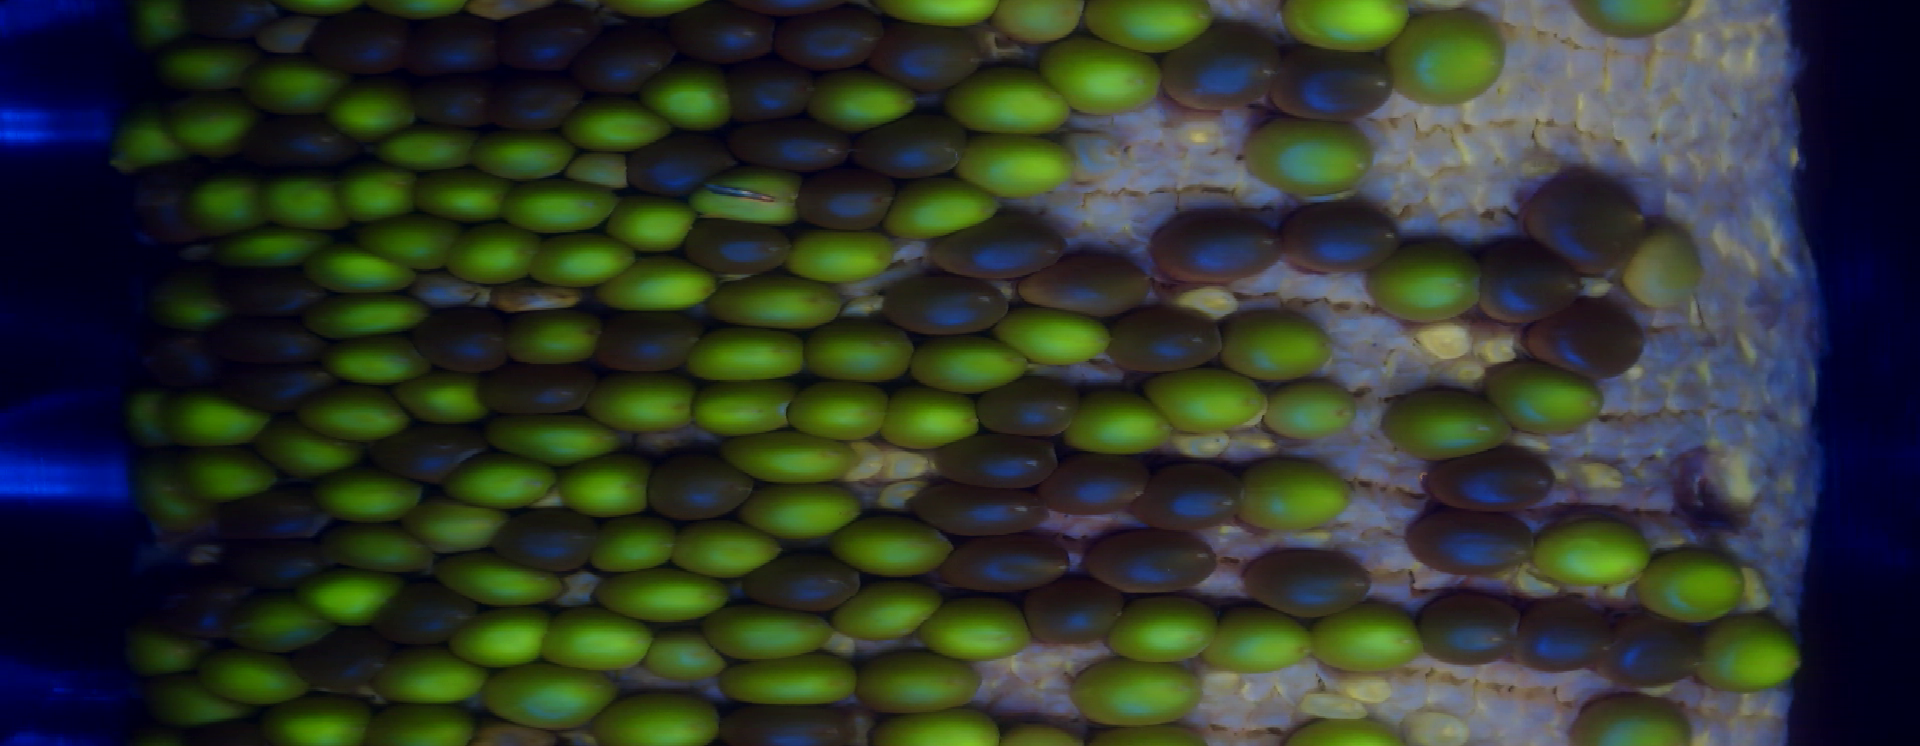fluorescent: (1384, 6, 1509, 102), (1033, 36, 1163, 116), (1250, 110, 1371, 195), (951, 122, 1080, 201), (1485, 353, 1605, 435), (474, 663, 620, 730), (880, 173, 1011, 245), (1693, 614, 1809, 695), (1371, 243, 1487, 323), (1078, 654, 1202, 728), (1385, 383, 1510, 457), (313, 521, 441, 592), (942, 66, 1075, 134), (1142, 367, 1271, 436), (710, 267, 850, 330), (1624, 217, 1709, 315), (1527, 519, 1647, 589), (438, 551, 574, 612), (587, 363, 702, 435), (994, 300, 1116, 367), (375, 643, 489, 714), (595, 684, 722, 746), (720, 430, 861, 486), (1243, 463, 1360, 530), (802, 318, 916, 386), (721, 654, 863, 708), (1315, 606, 1427, 675), (1206, 605, 1318, 674), (1644, 552, 1750, 625), (1222, 312, 1335, 380), (482, 410, 620, 465), (549, 606, 662, 673), (744, 479, 864, 541), (596, 563, 732, 619), (444, 450, 562, 513), (1070, 390, 1176, 461), (605, 247, 714, 316), (315, 463, 433, 526), (201, 646, 315, 710), (856, 653, 987, 709), (909, 330, 1026, 392), (560, 89, 675, 153), (1278, 1, 1414, 55), (465, 118, 578, 183), (831, 578, 938, 647), (531, 222, 638, 290), (1118, 597, 1222, 665), (305, 376, 410, 443), (705, 601, 830, 658), (132, 446, 216, 530), (557, 448, 658, 518), (838, 521, 956, 579), (698, 160, 809, 223), (647, 59, 736, 136), (453, 608, 561, 671), (692, 372, 804, 432), (1571, 692, 1696, 746), (1084, 1, 1217, 51), (263, 414, 362, 481), (409, 164, 512, 229), (444, 218, 541, 287), (495, 307, 607, 366), (688, 323, 808, 379), (792, 376, 894, 441), (1258, 377, 1363, 440), (396, 496, 509, 554), (789, 222, 898, 282), (160, 390, 280, 443), (328, 72, 419, 143), (324, 328, 433, 387), (264, 688, 373, 746), (149, 671, 258, 729), (811, 69, 917, 127), (358, 216, 464, 274), (669, 523, 787, 576), (305, 568, 407, 630), (887, 385, 982, 450), (500, 176, 617, 229), (235, 590, 338, 650), (932, 598, 1029, 660), (168, 86, 253, 156), (238, 59, 345, 114), (178, 439, 277, 496), (298, 290, 430, 333), (334, 159, 424, 222), (375, 118, 480, 170), (862, 709, 1013, 746), (399, 367, 491, 426), (311, 247, 418, 296), (153, 39, 258, 88), (598, 512, 678, 576), (610, 194, 703, 249), (369, 698, 475, 746), (225, 225, 331, 272), (264, 173, 345, 233), (122, 631, 219, 680), (108, 107, 178, 171), (1576, 1, 1689, 40), (191, 178, 271, 233), (988, 1, 1086, 45), (1271, 717, 1413, 746), (647, 630, 722, 684), (156, 272, 228, 328), (119, 390, 176, 450), (885, 1, 998, 29), (127, 1, 189, 50), (1085, 723, 1207, 746), (999, 717, 1089, 746), (599, 1, 715, 17), (372, 1, 471, 20), (280, 1, 369, 16)
nonfluorescent: (1520, 160, 1660, 274), (1163, 20, 1286, 113), (1084, 521, 1229, 598), (1151, 209, 1288, 290), (1521, 294, 1648, 380), (1272, 40, 1401, 122), (906, 465, 1052, 535), (1276, 198, 1404, 277), (1238, 545, 1378, 616), (1024, 243, 1152, 317), (931, 207, 1065, 278), (1419, 445, 1566, 510), (933, 530, 1080, 594), (364, 416, 497, 486), (1404, 503, 1533, 576), (1102, 303, 1232, 372), (1478, 233, 1580, 321), (724, 111, 853, 180), (1142, 454, 1255, 533), (1042, 443, 1156, 518), (970, 370, 1092, 439), (648, 450, 758, 526), (680, 207, 796, 278), (478, 354, 610, 416), (741, 550, 866, 616), (1609, 610, 1708, 693), (853, 115, 976, 183), (880, 273, 1015, 334), (1412, 593, 1522, 668), (931, 430, 1067, 490), (493, 502, 609, 570), (1016, 577, 1131, 644), (212, 353, 343, 412), (622, 130, 742, 194), (276, 628, 400, 688), (713, 695, 857, 746), (1516, 595, 1608, 676), (878, 20, 980, 92), (220, 533, 336, 597), (595, 305, 700, 374), (242, 114, 362, 174), (411, 307, 512, 379), (365, 576, 474, 641), (407, 9, 500, 85), (775, 7, 891, 67), (142, 570, 239, 641), (217, 488, 336, 545), (792, 168, 898, 232), (574, 23, 669, 94), (498, 2, 596, 70), (302, 13, 408, 75), (669, 4, 778, 62), (400, 73, 508, 131), (720, 62, 823, 122), (206, 318, 340, 364), (216, 267, 337, 317), (126, 180, 216, 247), (492, 71, 584, 132), (142, 323, 220, 393), (181, 1, 276, 47), (184, 709, 283, 746), (475, 717, 568, 746), (733, 1, 847, 20)
